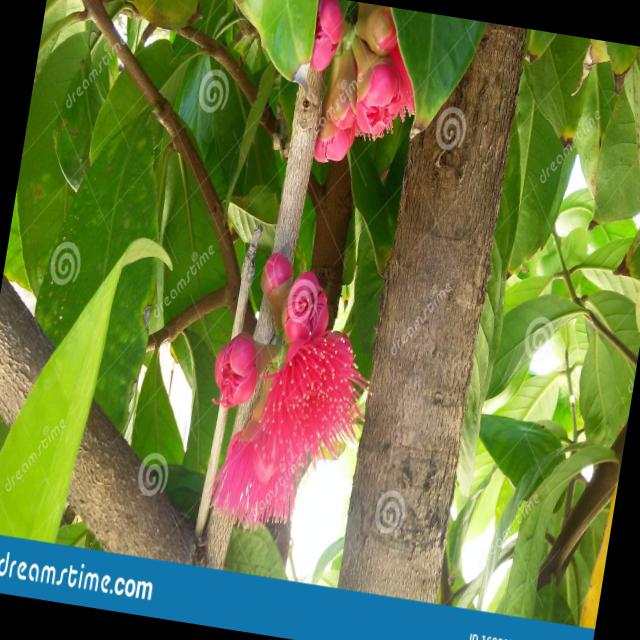Medicinal-Rose Apple: (164, 0, 450, 590)
